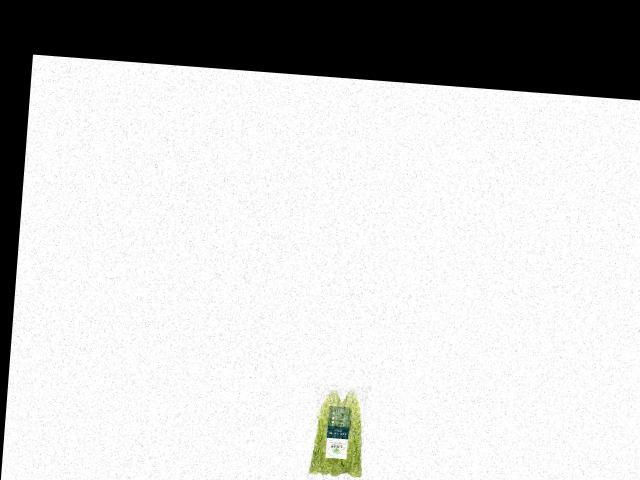lettuce: (308, 386, 374, 480)
